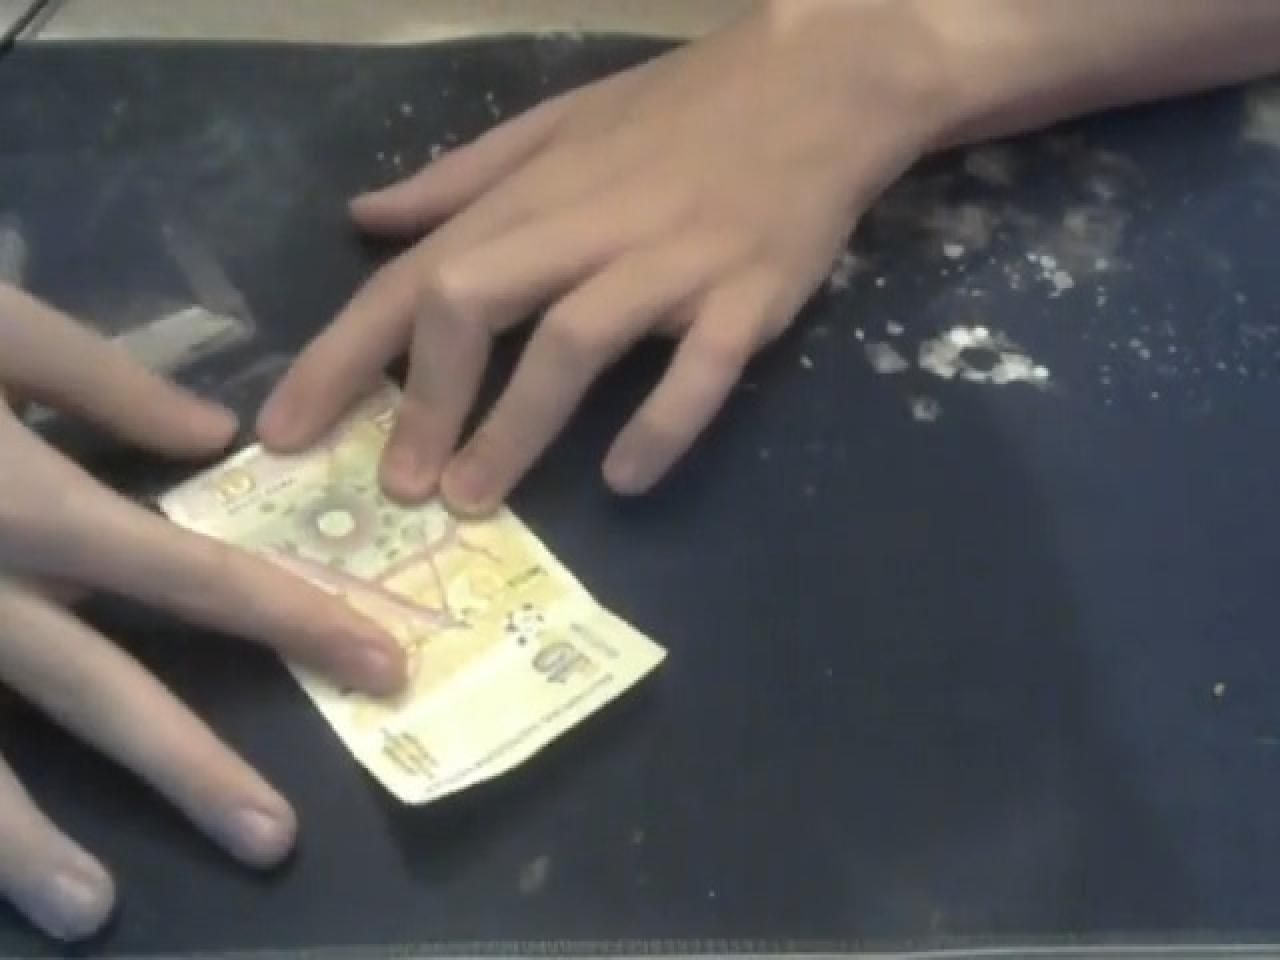10leva: (194, 449, 260, 528)
